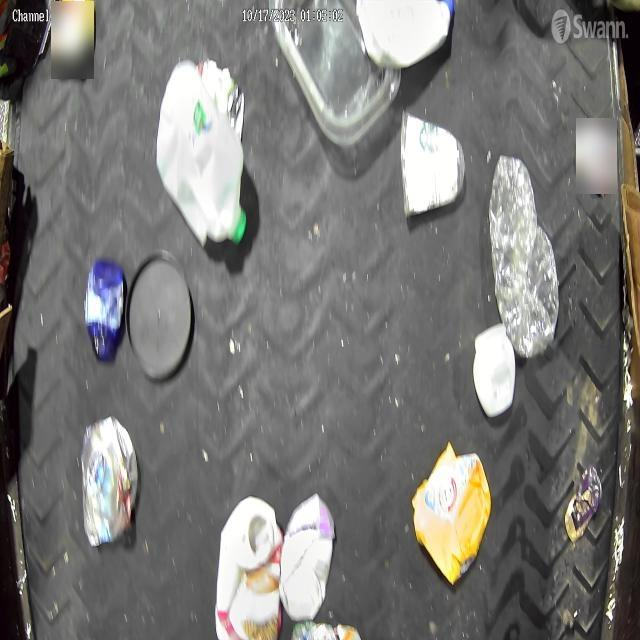milk_jug: (156, 63, 250, 247), (356, 0, 455, 70)
non_white_jug: (413, 440, 492, 582), (215, 494, 281, 640)
